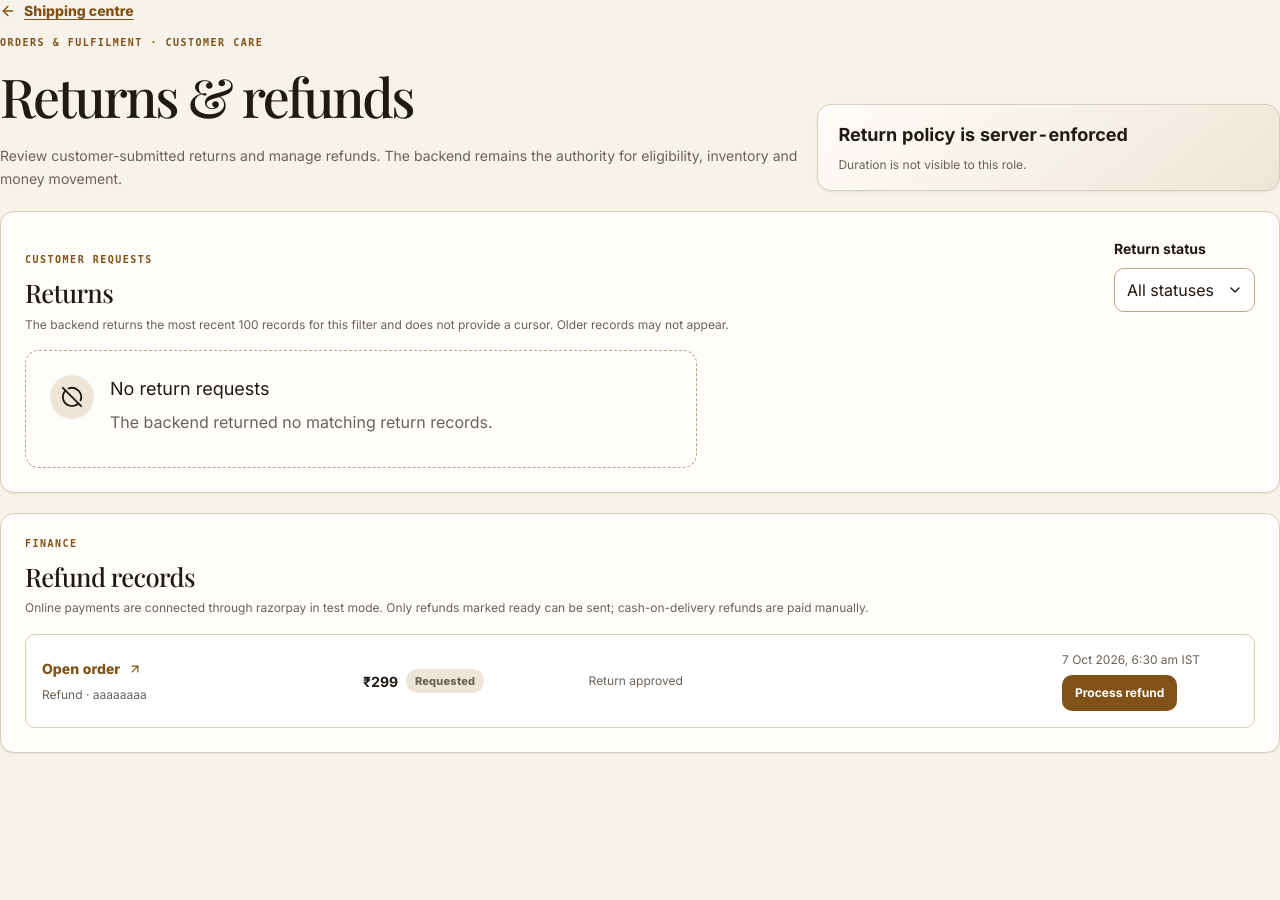
it: refund processing › reports a gateway failure without claiming success
Click the button "Process refund" at {"x": 1120, "y": 693}, box [1062,675,1177,711]
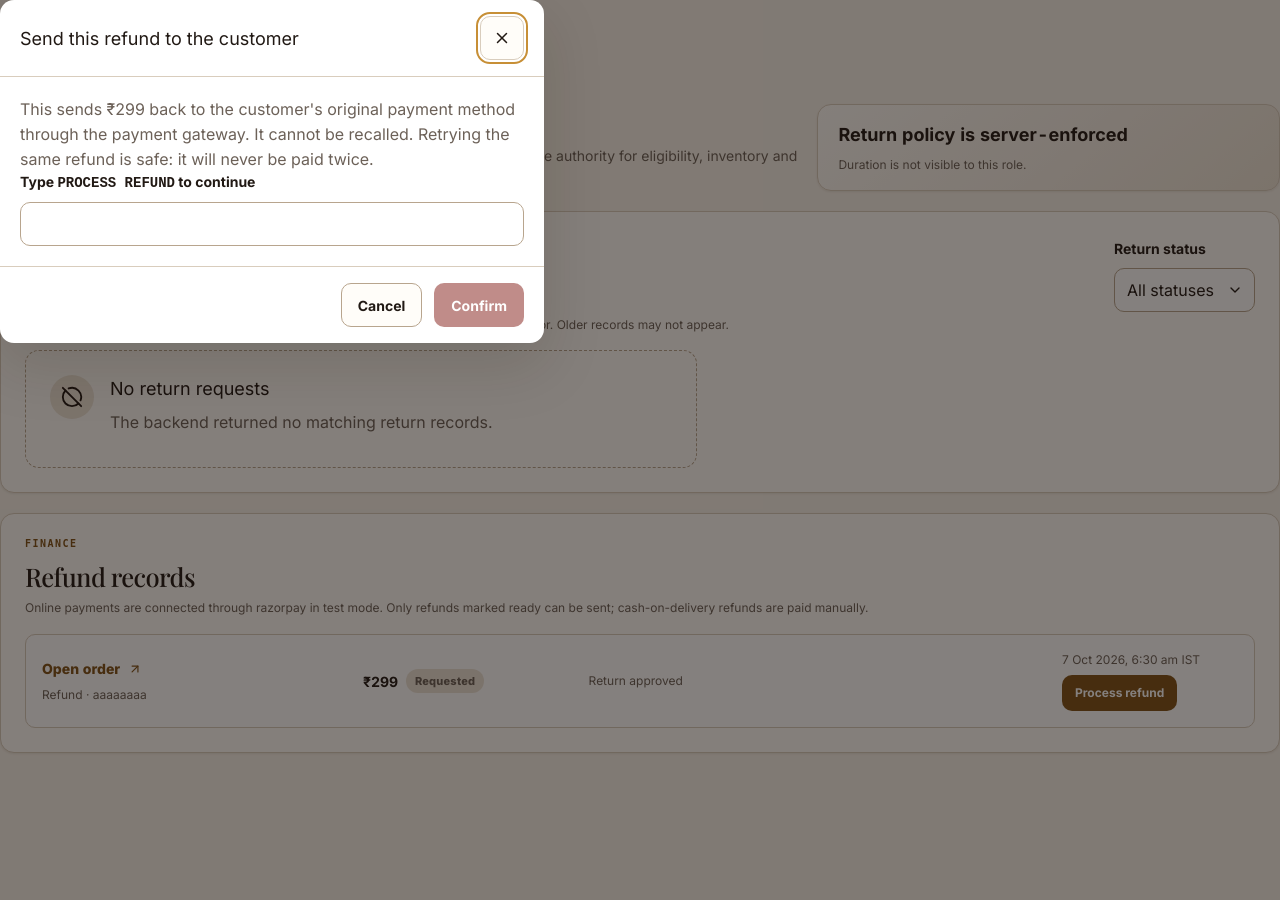
Type "PROCESS REFUND" into the field labelled "Type PROCESS REFUND to continue" at {"x": 272, "y": 224}, box [20,202,524,246]
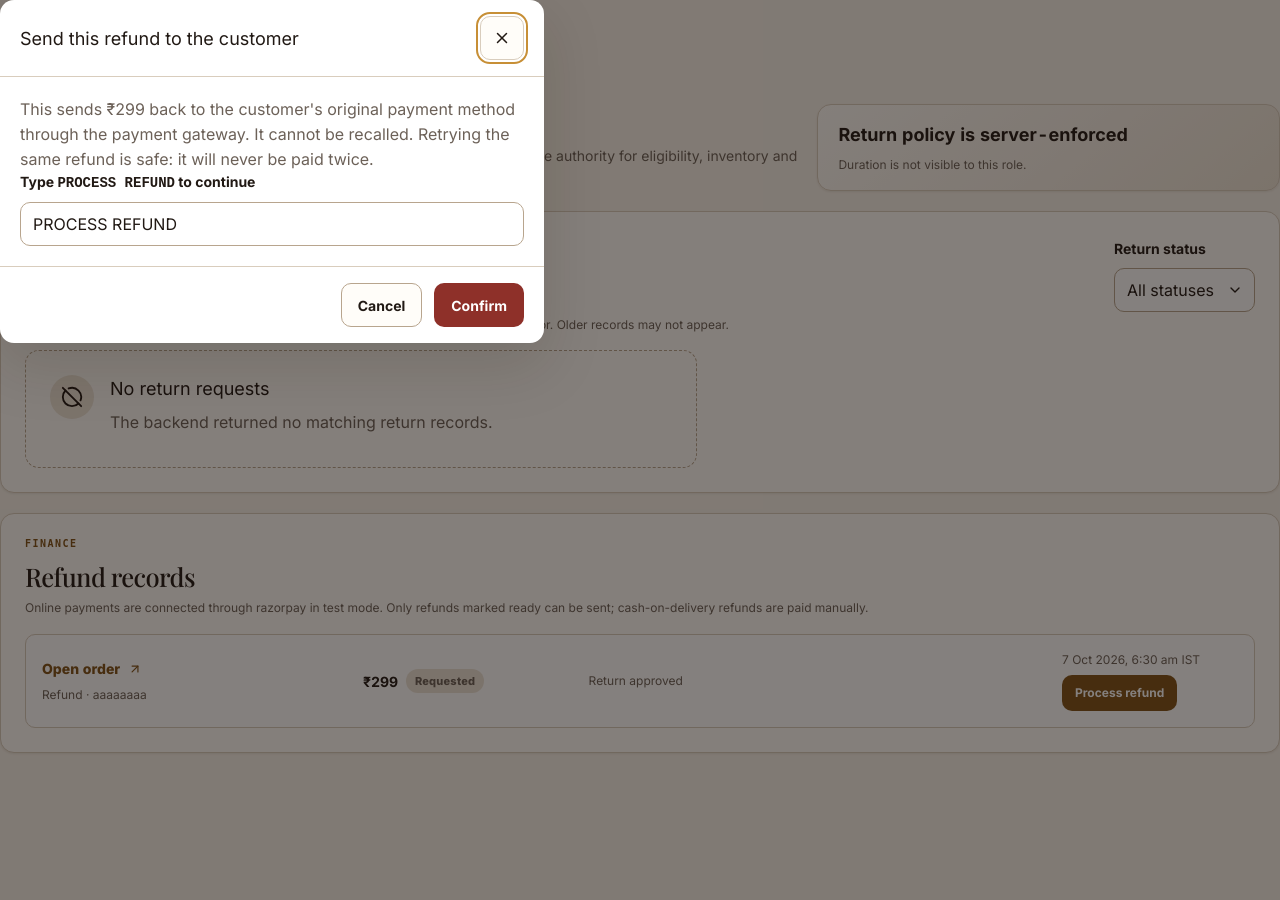
Click the button "Confirm" at {"x": 479, "y": 305}, box [434,283,524,327]
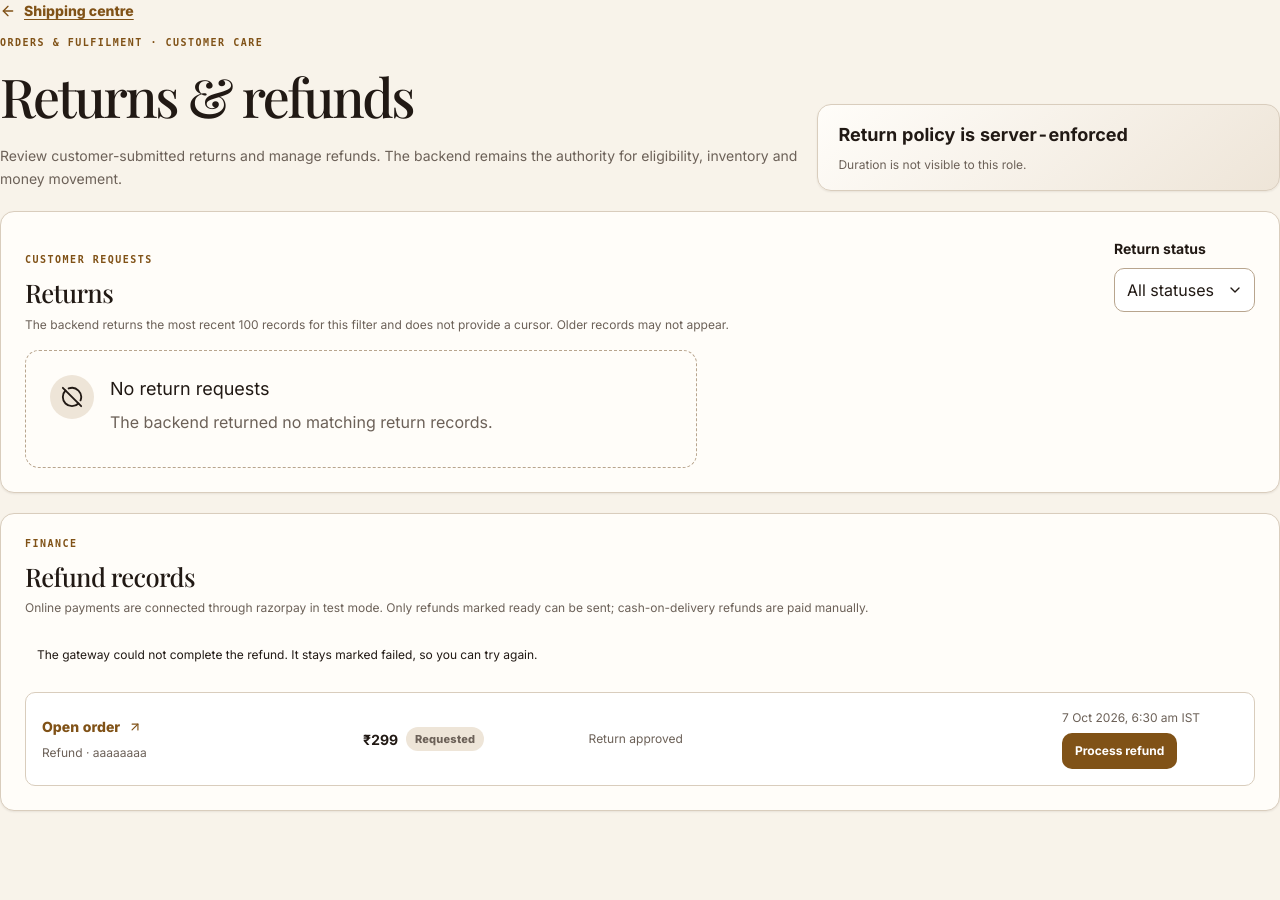
Check: the message shows "could not complete the refund", box [37,647,538,662]
